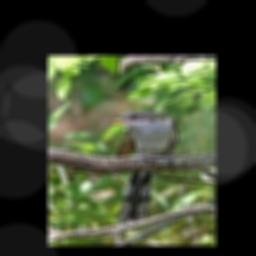Cuckoo: (106, 109, 180, 224)
